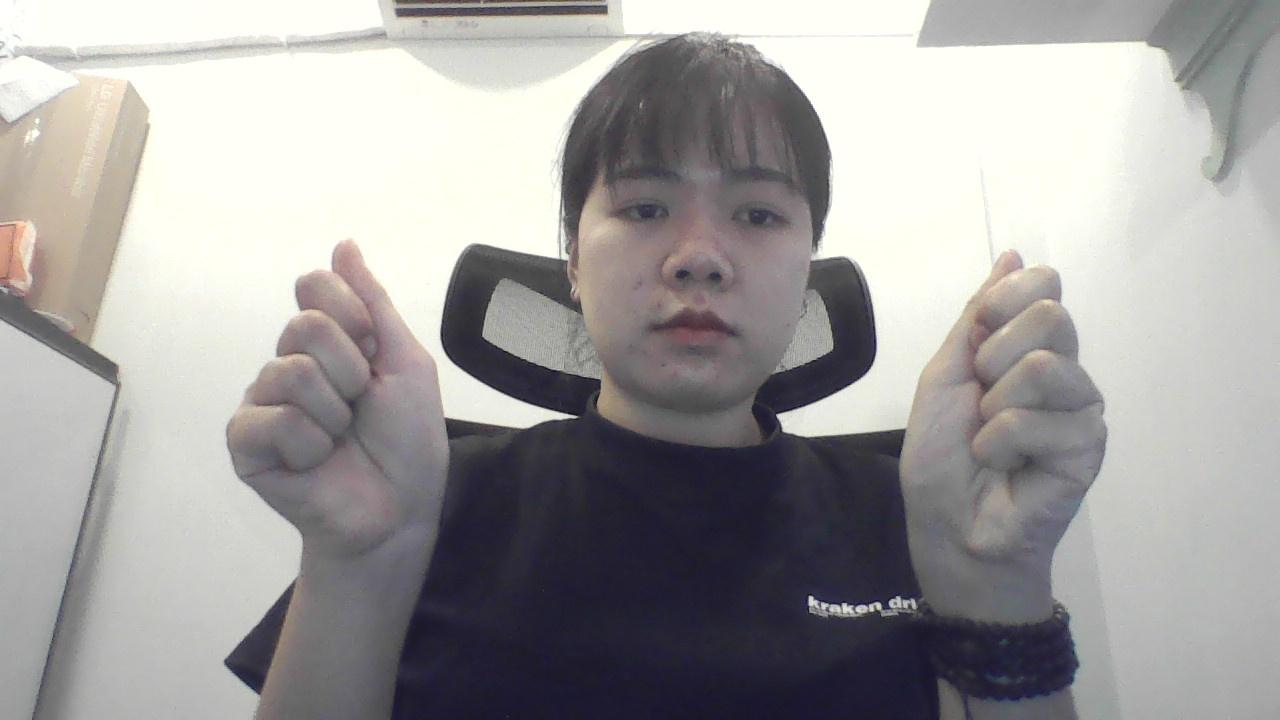A: (195, 202, 472, 628), (889, 217, 1128, 619)
